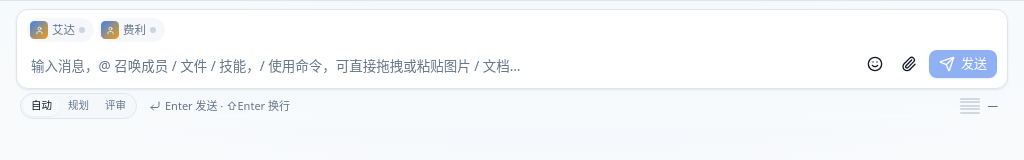
M11 指挥台与首棒语义提示 › 指挥条：点击成员 chip 插入 @名字
The width and height of the screenshot is (1024, 160).
Click the button titled "召唤 艾达" at (60, 30), box [27, 18, 94, 42]
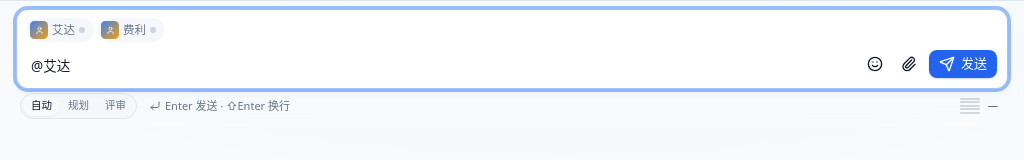
expect the text box holds "@艾达 ": met, box [17, 44, 1007, 88]
